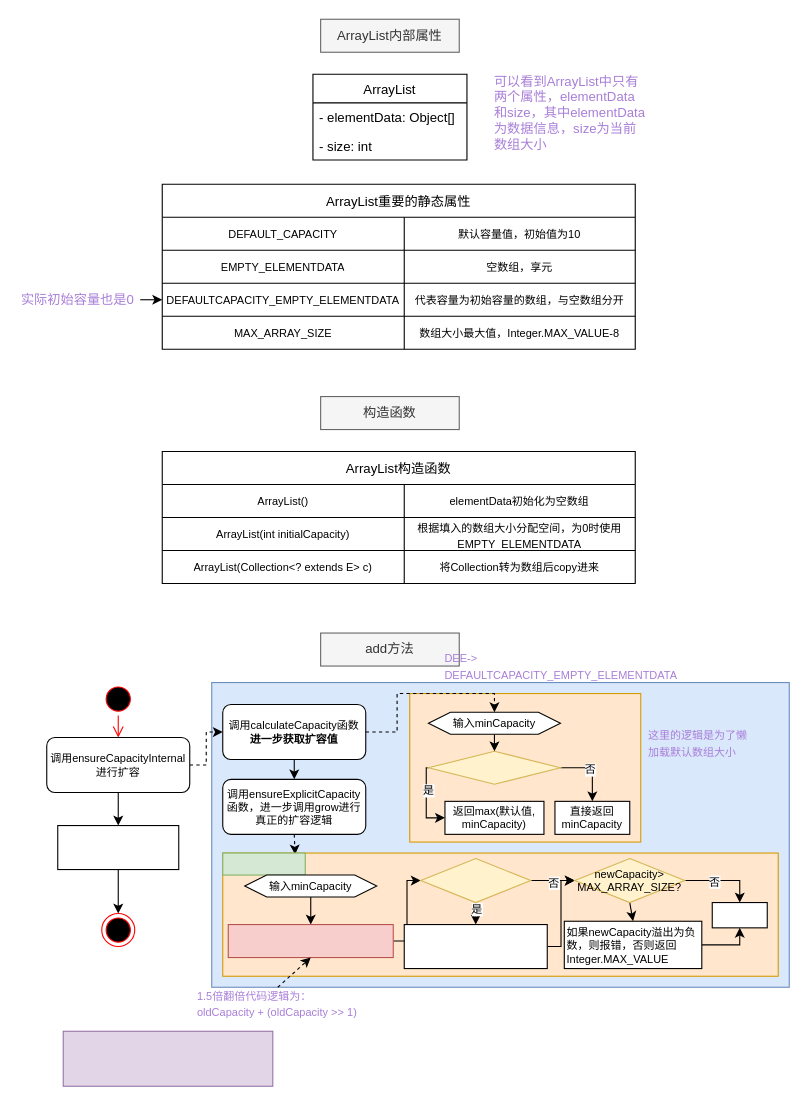
This 809x1106 diagram has some shape labels left out. Here are the shapes that lost their labels. From the top down, the centre of each, then its label:
At point (493, 767): "数组值是DEE吗".
At point (118, 847): "元素插入到尾部，size++".
At point (263, 863): "grow函数".
At point (475, 880): "newCapacity < minCapacity?".
At point (739, 914): "函数返回".
At point (310, 940): "newCapacity=oldCapacity*1.5 即新容量默认为就容量的1.5倍".
At point (475, 946): "newCapacity=minCapacity，即此时新容量直接设置为需求容量".
At point (167, 1058): "从add函数可以看到ArrayList可以自动扩容，但是却不会自动缩容，只有在手动调用 trimToSize 方法时才会缩小容量".
